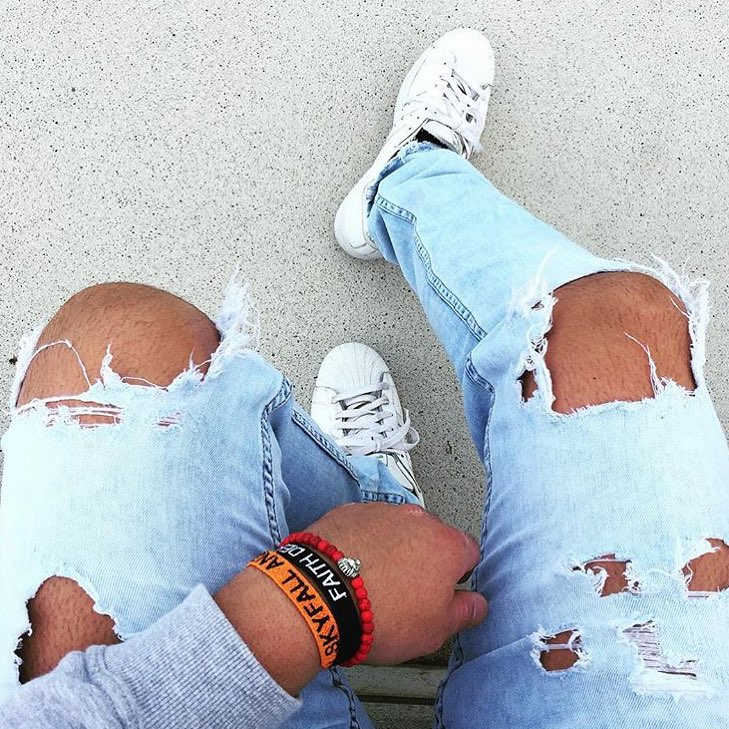sneaker: (319, 16, 516, 276), (293, 325, 438, 530)
